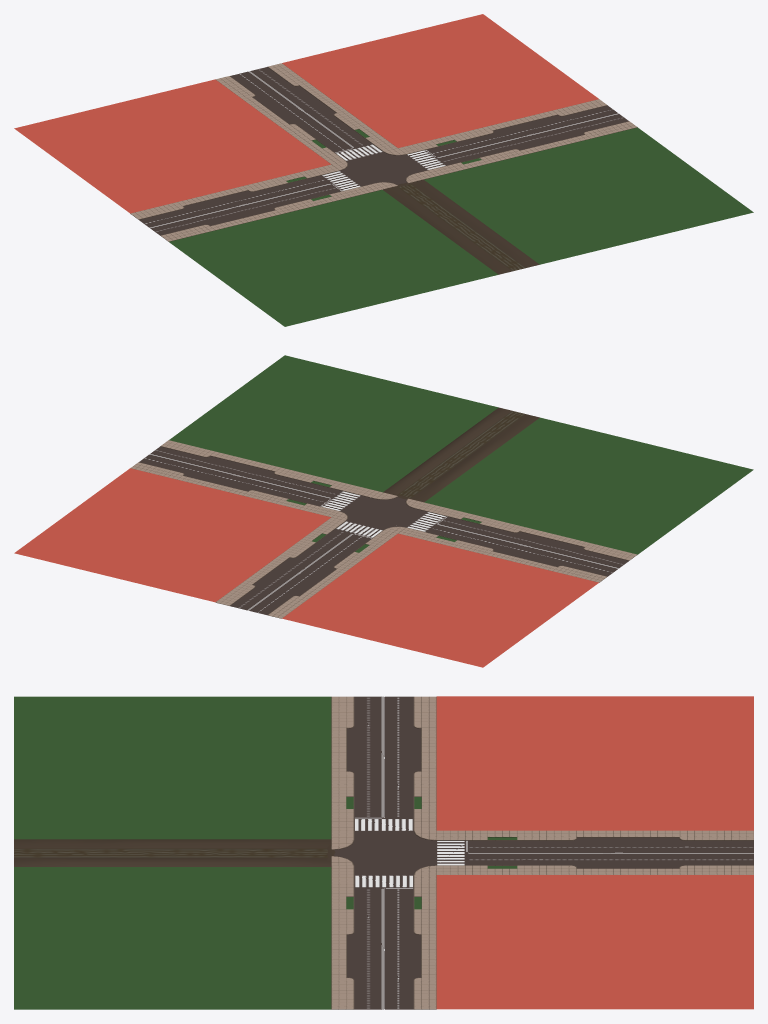
The model's file is TileCityForest1.fbx.
The picture shows the model from 3 angles, top to bottom: view 1: azimuth 30°, elevation 25°; view 2: azimuth 150°, elevation 25°; view 3: azimuth 270°, elevation 25°; orthographic projection. The views are drawn at different scales.
Parts seen in each view (by area): view 1: Plane.047, Sidewalk1.121, Road1.008, Road1.009, Plane.046, Road1.005, Road.002, Sidewalk1.027, Sidewalk1.028, Sidewalk1.042; view 2: Plane.047, Sidewalk1.121, Road1.008, Road1.009, Plane.046, Road1.005, Road.002, Sidewalk1.027, Sidewalk1.028, Sidewalk1.042; view 3: Plane.047, Sidewalk1.121, Road1.008, Road1.009, Plane.046, Road1.005, Road.002, Sidewalk1.042, Sidewalk1.028, Sidewalk1.027, Sidewalk1.035, Sidewalk1.046 (+19 smaller).
Boxes of the visible parts, x1=… form: Plane.047: x1=169, y1=127, x2=753, y2=326; Sidewalk1.121: x1=14, y1=14, x2=598, y2=213; Road1.008: x1=139, y1=105, x2=628, y2=235; Road1.009: x1=230, y1=67, x2=371, y2=152; Plane.046: x1=383, y1=179, x2=539, y2=274; Road1.005: x1=340, y1=152, x2=427, y2=186; Road.002: x1=398, y1=184, x2=525, y2=271; Sidewalk1.027: x1=266, y1=169, x2=351, y2=208; Sidewalk1.028: x1=416, y1=132, x2=501, y2=171; Sidewalk1.042: x1=294, y1=120, x2=386, y2=156; Plane.047: x1=169, y1=355, x2=753, y2=554; Sidewalk1.121: x1=14, y1=468, x2=598, y2=667; Road1.008: x1=139, y1=446, x2=628, y2=576; Road1.009: x1=230, y1=529, x2=371, y2=614; Plane.046: x1=383, y1=407, x2=539, y2=502; Road1.005: x1=340, y1=495, x2=427, y2=529; Road.002: x1=398, y1=411, x2=525, y2=497; Sidewalk1.027: x1=417, y1=510, x2=501, y2=549; Sidewalk1.028: x1=266, y1=473, x2=351, y2=512; Sidewalk1.042: x1=294, y1=525, x2=386, y2=560; Plane.047: x1=14, y1=696, x2=331, y2=1009; Sidewalk1.121: x1=436, y1=696, x2=753, y2=1009; Road1.008: x1=354, y1=696, x2=413, y2=1009; Road1.009: x1=468, y1=840, x2=753, y2=865; Plane.046: x1=14, y1=839, x2=335, y2=866; Road1.005: x1=334, y1=831, x2=436, y2=875; Road.002: x1=14, y1=848, x2=327, y2=857; Sidewalk1.042: x1=465, y1=830, x2=539, y2=874; Sidewalk1.028: x1=331, y1=887, x2=436, y2=918; Sidewalk1.027: x1=331, y1=787, x2=436, y2=818; Sidewalk1.035: x1=331, y1=946, x2=436, y2=965; Sidewalk1.046: x1=606, y1=830, x2=650, y2=874.
Size of the model in its own units: 20000 by 52.86 by 20000.
